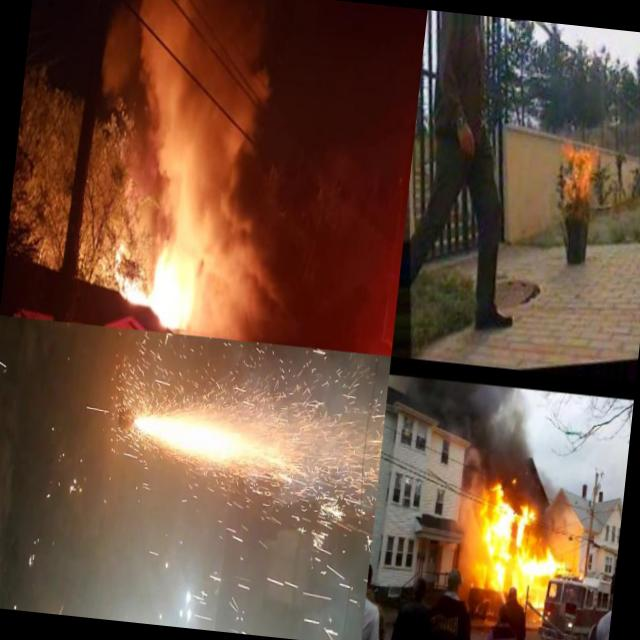fire: (265, 487, 350, 640), (111, 226, 204, 336), (478, 487, 556, 592), (556, 136, 599, 202), (548, 548, 574, 571)
smoke: (121, 0, 292, 239), (195, 232, 303, 346), (461, 383, 535, 492), (398, 376, 472, 434), (453, 479, 489, 550)
